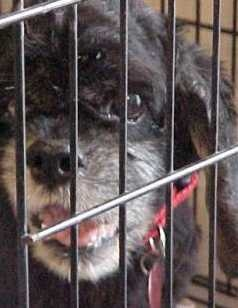dog: (0, 0, 229, 289)
